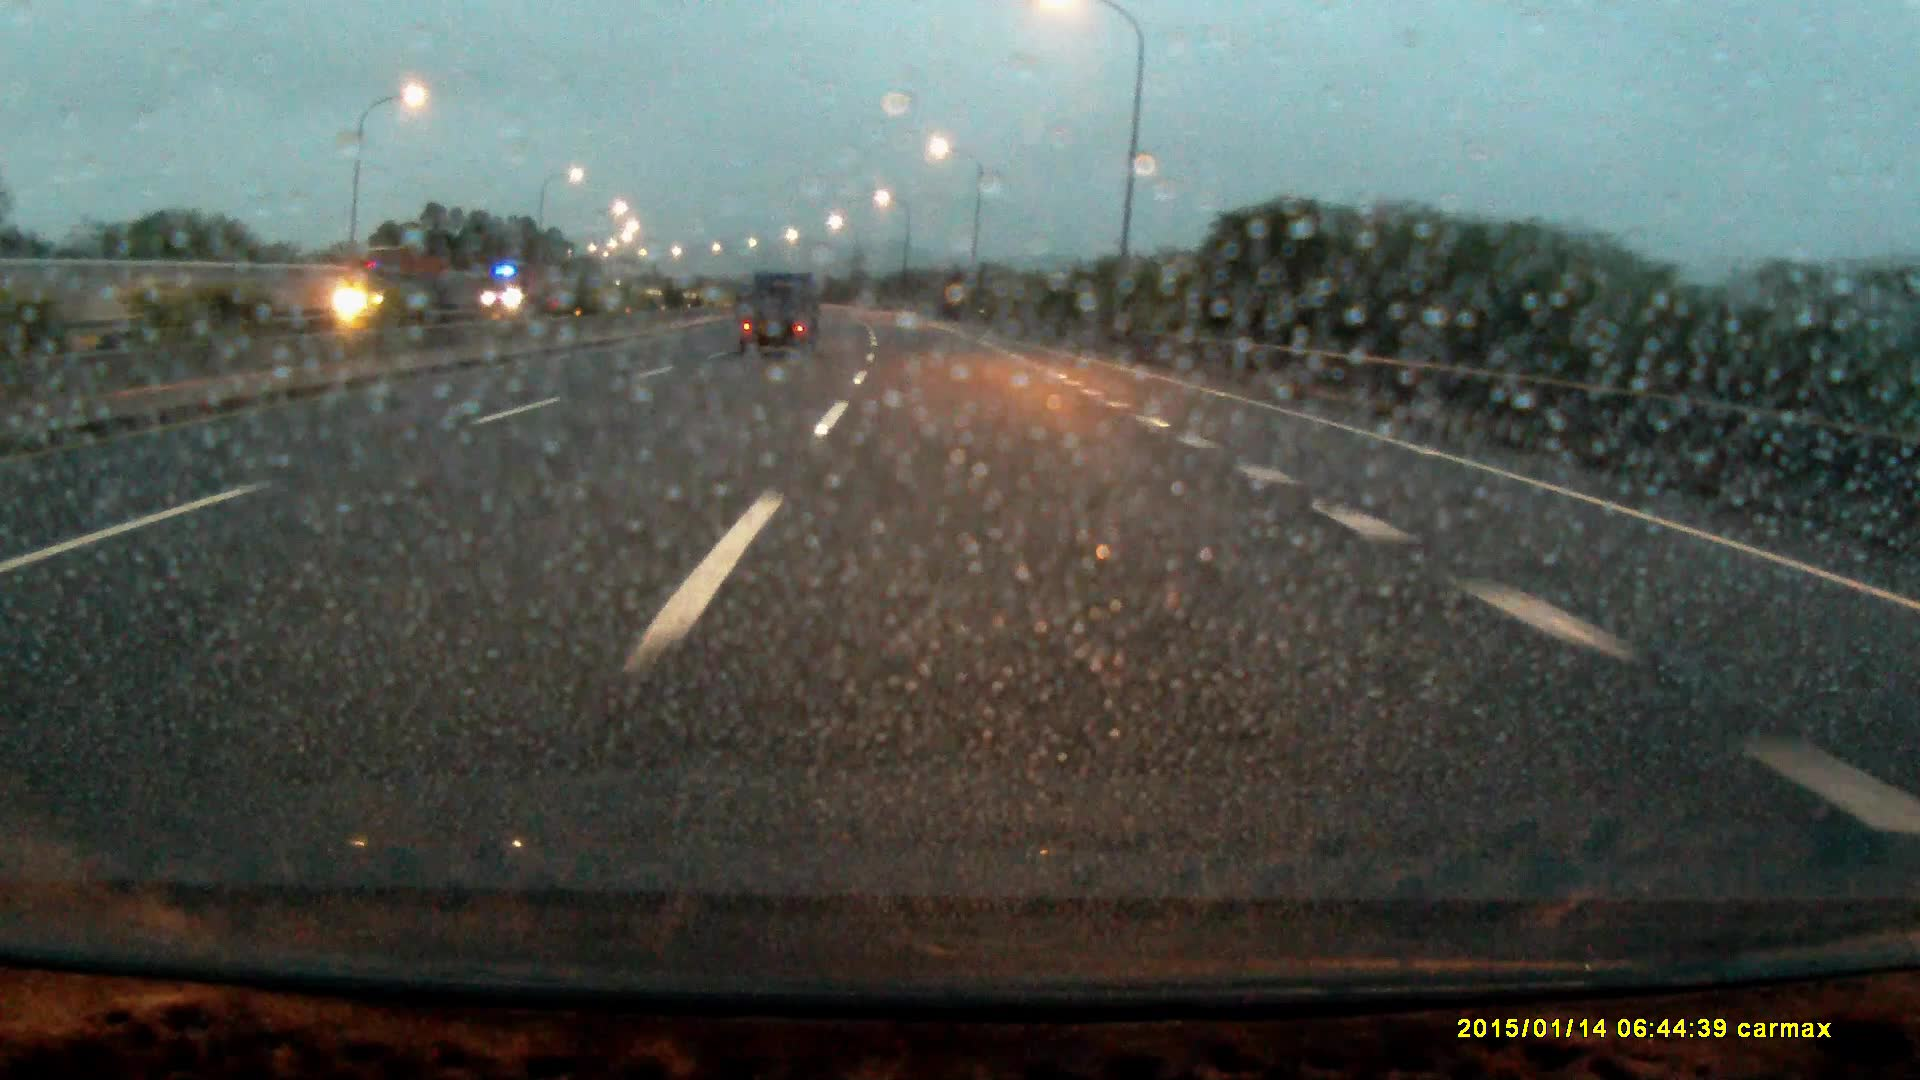vehicle: (334, 249, 455, 324), (738, 269, 818, 360), (481, 262, 555, 315)
